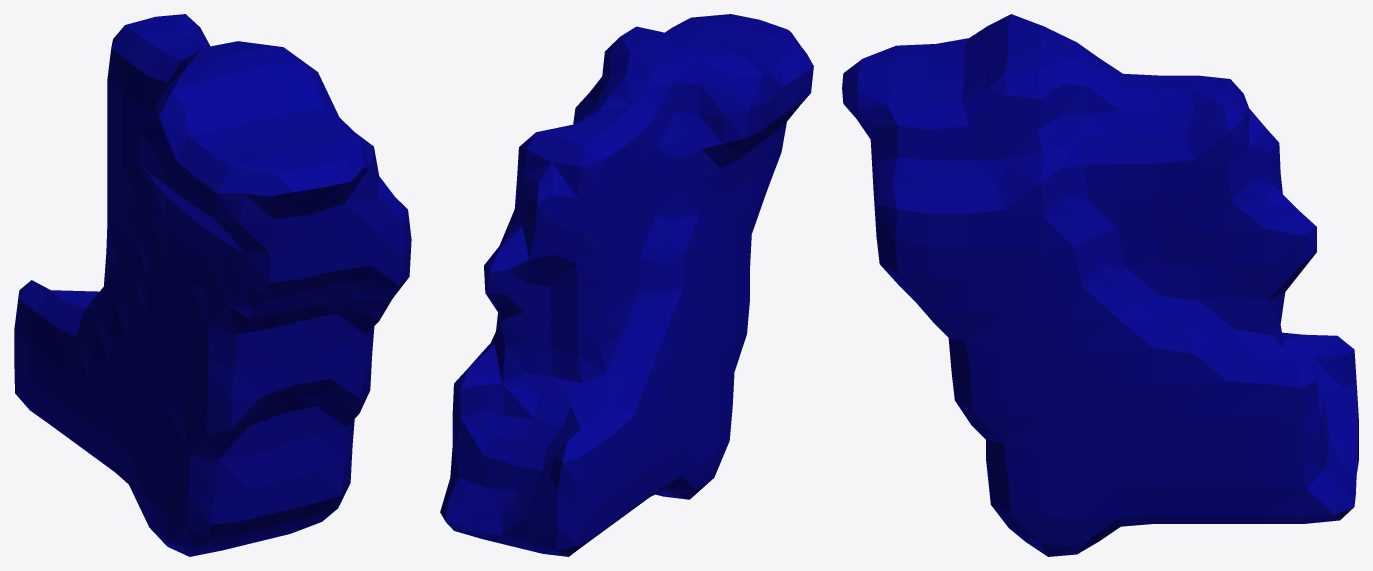
The model's file is aseg_252_CC_Mid_Posterior.glb.
The picture shows the model from 3 angles, left to right: view 1: azimuth 30°, elevation 25°; view 2: azimuth 150°, elevation 25°; view 3: azimuth 270°, elevation 25°; orthographic projection. The views are drawn at different scales.
Bounding box in the file's own units: 6 × 13.92 × 13.75.
